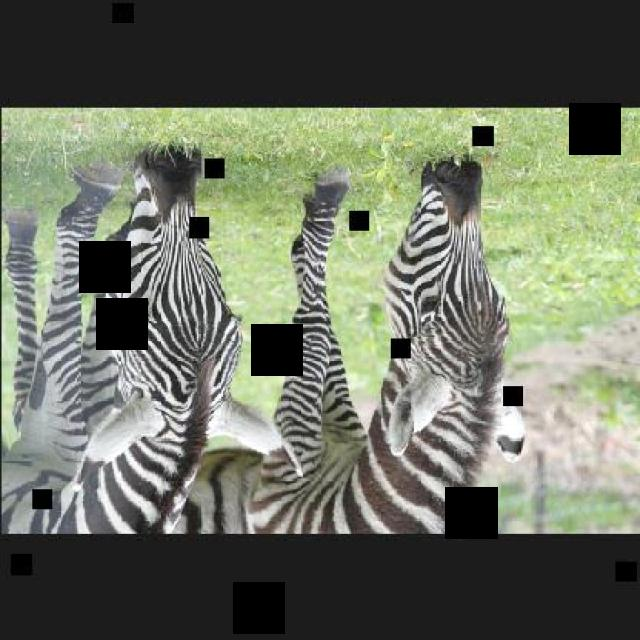unauthorized: (189, 154, 525, 534), (3, 140, 245, 534), (0, 162, 125, 532)
